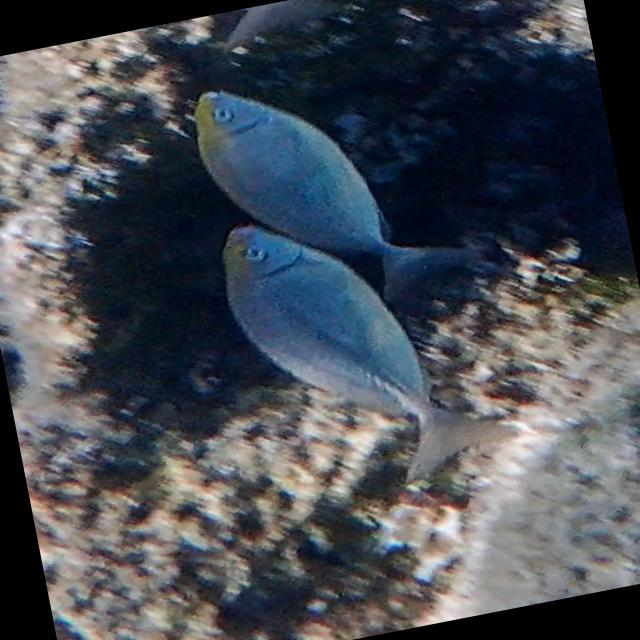Sokar Baligi: (192, 171, 522, 511)
